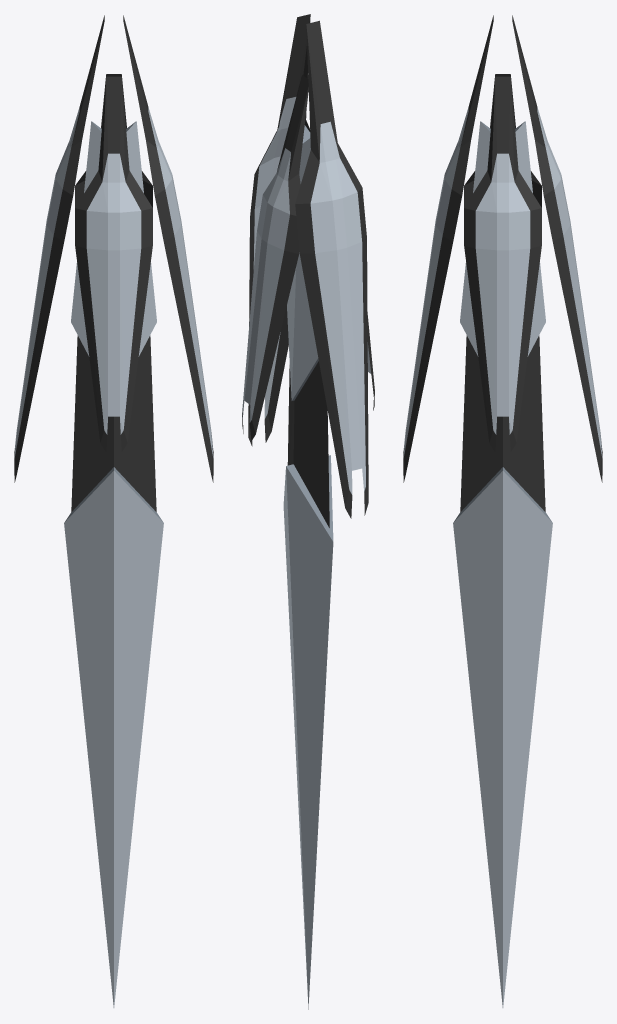
File: SwordWeapon.FBX
3 renders of one model, left to right at view 1: azimuth 90°, elevation 25°; view 2: azimuth 210°, elevation 25°; view 3: azimuth 270°, elevation 25°, orthographic.
Parts seen in each view (by area): view 1: VIFS009, VIFS012, VIFS002, VIFS001, VIFS003, VIFS007, VIFS011, VIFS014, VIFS004, VIFS008, VIFS005; view 2: VIFS012, VIFS004, VIFS003, VIFS006, VIFS005, VIFS014, VIFS007, VIFS009, VIFS008, VIFS013, VIFS011; view 3: VIFS009, VIFS012, VIFS006, VIFS005, VIFS003, VIFS007, VIFS011, VIFS014, VIFS004, VIFS008, VIFS001.
Boxes of the visible parts, box(x1,y1,x2,y2) form: VIFS009: box(114, 121, 163, 1007); VIFS012: box(64, 121, 113, 1007); VIFS002: box(86, 153, 141, 434); VIFS001: box(75, 76, 152, 451); VIFS003: box(14, 15, 104, 482); VIFS007: box(123, 15, 213, 482); VIFS011: box(114, 335, 156, 511); VIFS014: box(71, 335, 113, 511); VIFS004: box(14, 107, 79, 457); VIFS008: box(148, 107, 213, 457); VIFS005: box(75, 74, 152, 207); VIFS012: box(286, 138, 333, 1009); VIFS004: box(310, 121, 365, 494); VIFS003: box(295, 20, 368, 518); VIFS006: box(242, 148, 290, 422); VIFS005: box(242, 75, 308, 440); VIFS014: box(293, 361, 329, 527); VIFS007: box(248, 14, 310, 446); VIFS009: box(283, 267, 308, 1002); VIFS008: box(253, 97, 296, 418); VIFS013: box(286, 358, 333, 541); VIFS011: box(287, 365, 294, 465); VIFS009: box(453, 121, 502, 1007); VIFS012: box(503, 121, 552, 1007); VIFS006: box(475, 153, 530, 434); VIFS005: box(464, 76, 541, 451); VIFS003: box(512, 15, 602, 482); VIFS007: box(403, 15, 493, 482); VIFS011: box(460, 335, 502, 511); VIFS014: box(503, 335, 545, 511); VIFS004: box(537, 107, 602, 457); VIFS008: box(403, 107, 468, 457); VIFS001: box(464, 74, 541, 207).
Size of the model in its own units: 0.1652 by 1.26 by 0.2289.
